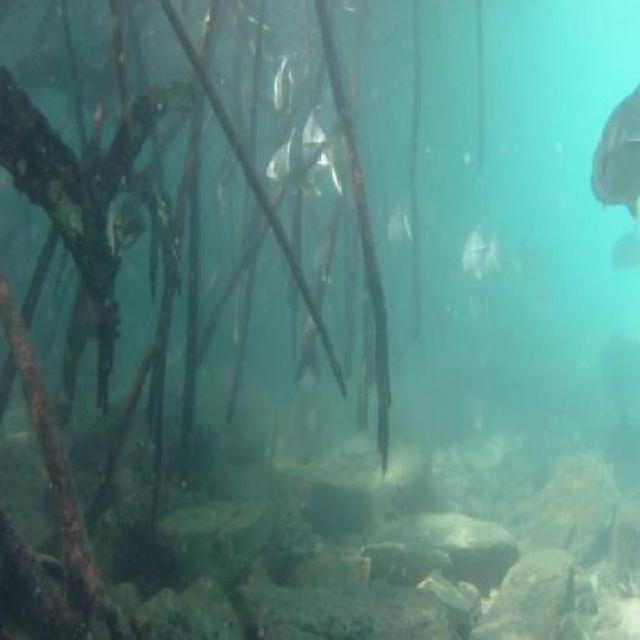Caranx_sexfasciatus_juvenile: (584, 81, 640, 226), (266, 130, 354, 196), (266, 39, 320, 132), (282, 100, 330, 188), (502, 223, 546, 294), (603, 215, 640, 298), (379, 188, 419, 252), (458, 233, 500, 293), (206, 155, 239, 217)
